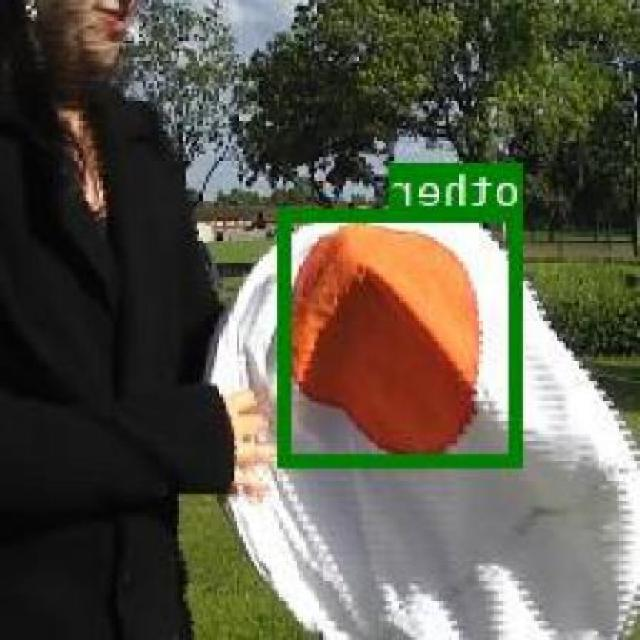other: (279, 206, 524, 463)
